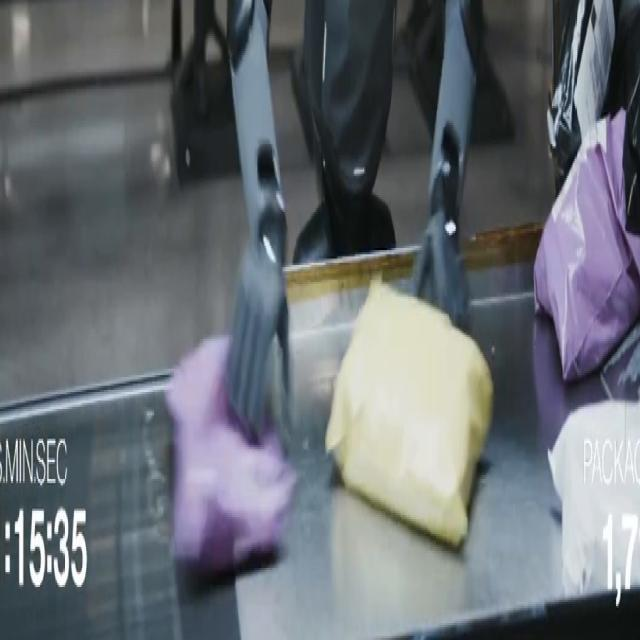package: (326, 282, 493, 546), (166, 337, 295, 574), (534, 113, 639, 381), (549, 401, 639, 599), (548, 0, 616, 192), (533, 316, 602, 449), (607, 0, 639, 235), (623, 9, 639, 235)
